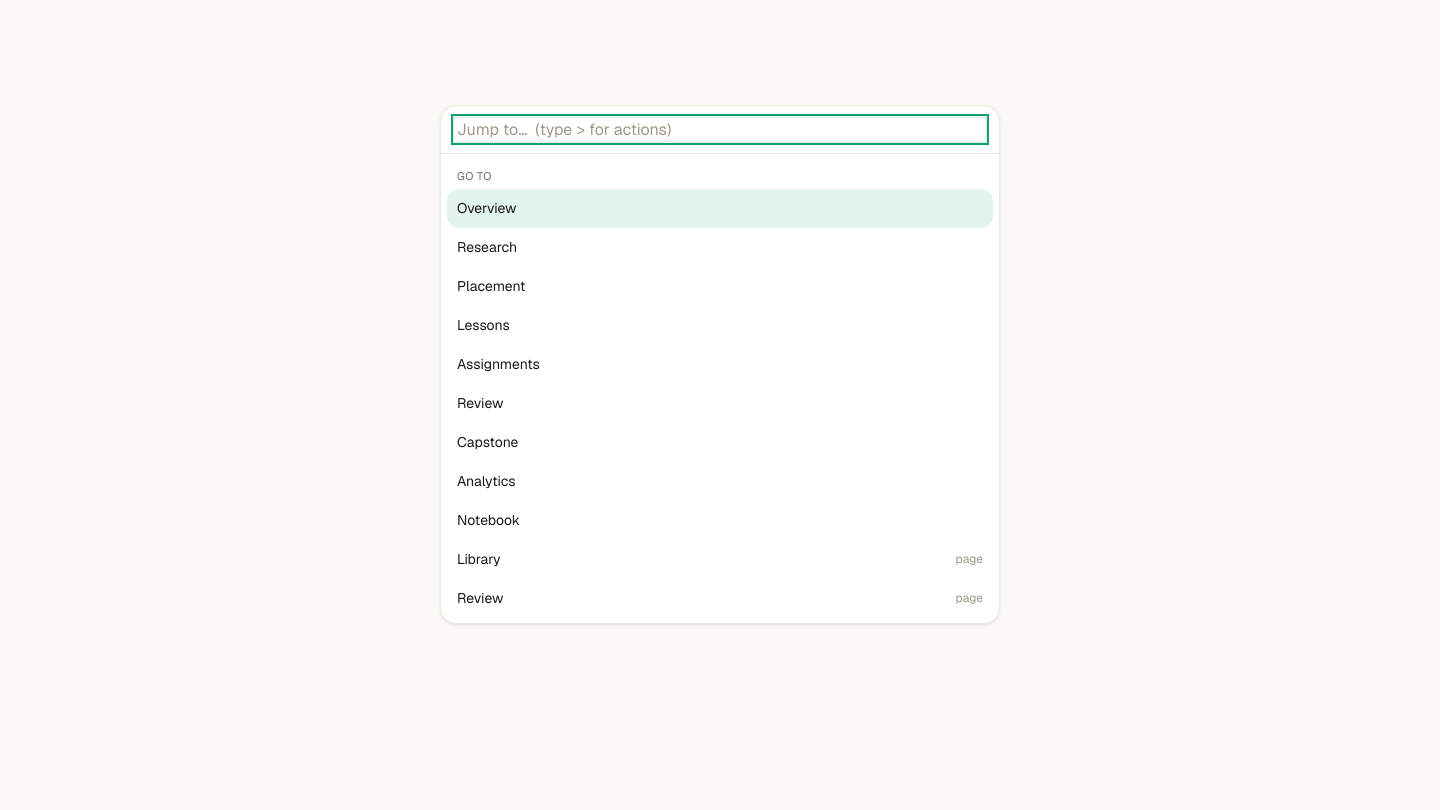
Test: CommandPalette › filters by typed query
Type "capst" into the dropdown with test id "palette-input".
click(720, 130); type("capst")  # box top-left (455, 118), bottom-right (985, 141)
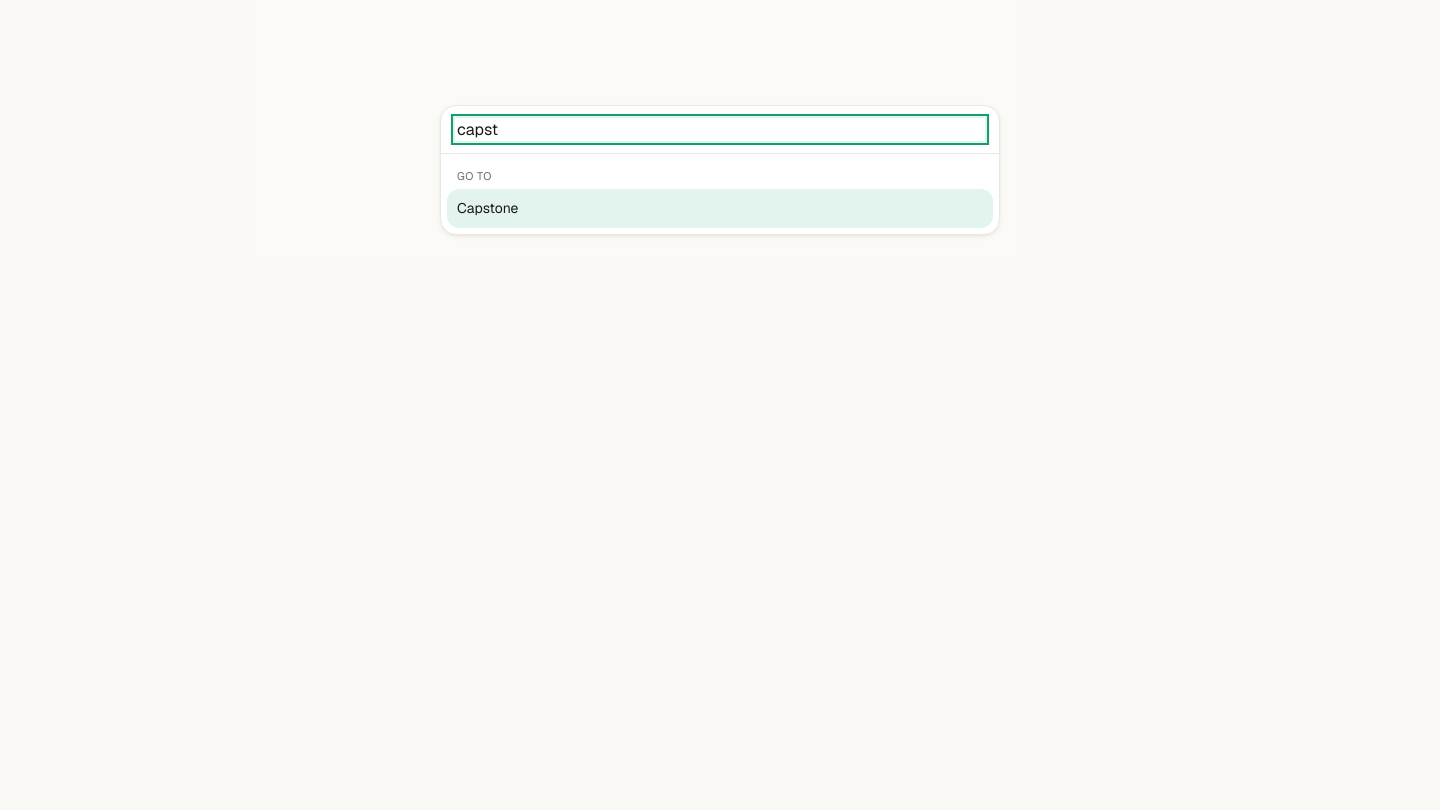
Expected: the text "Capstone" is shown, top-left (457, 198), bottom-right (518, 219)
Now the option "Library" is gone
